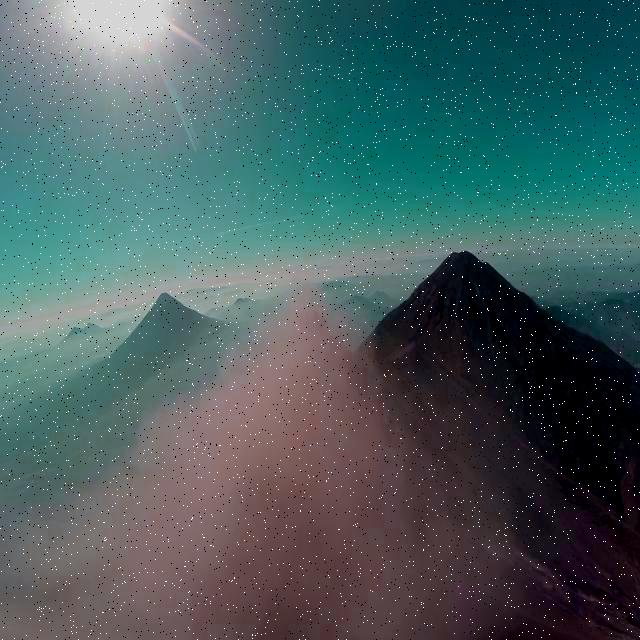Plume: (0, 281, 515, 640)
